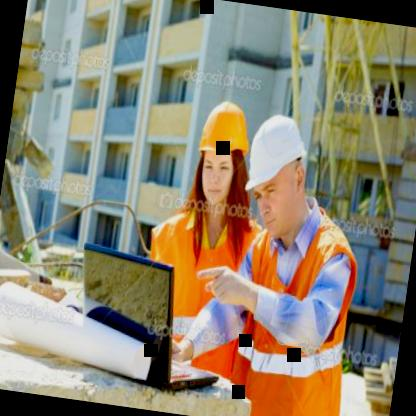helmet: (233, 97, 323, 244), (186, 85, 258, 219)
